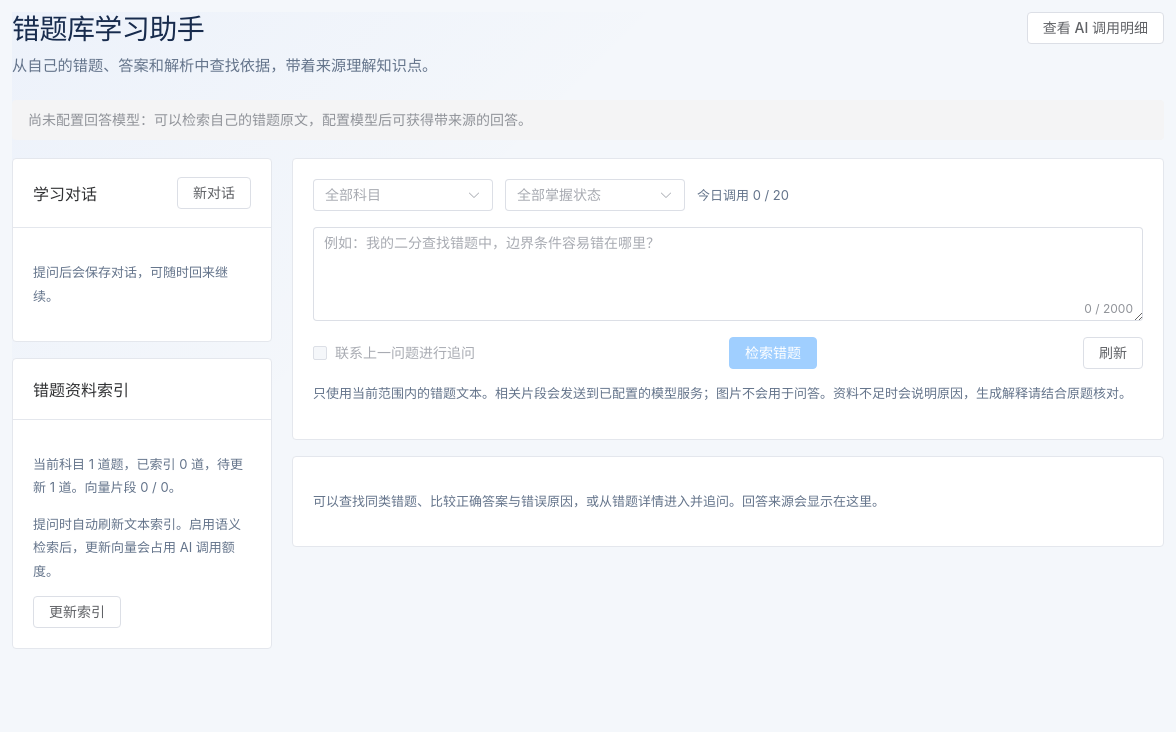
personal question RAG assistant › allows real local retrieval while clearly identifying unconfigured generation
Type "链表反转" into the text box with test id "rag-question" at (728, 274), box [313,227,1143,321]
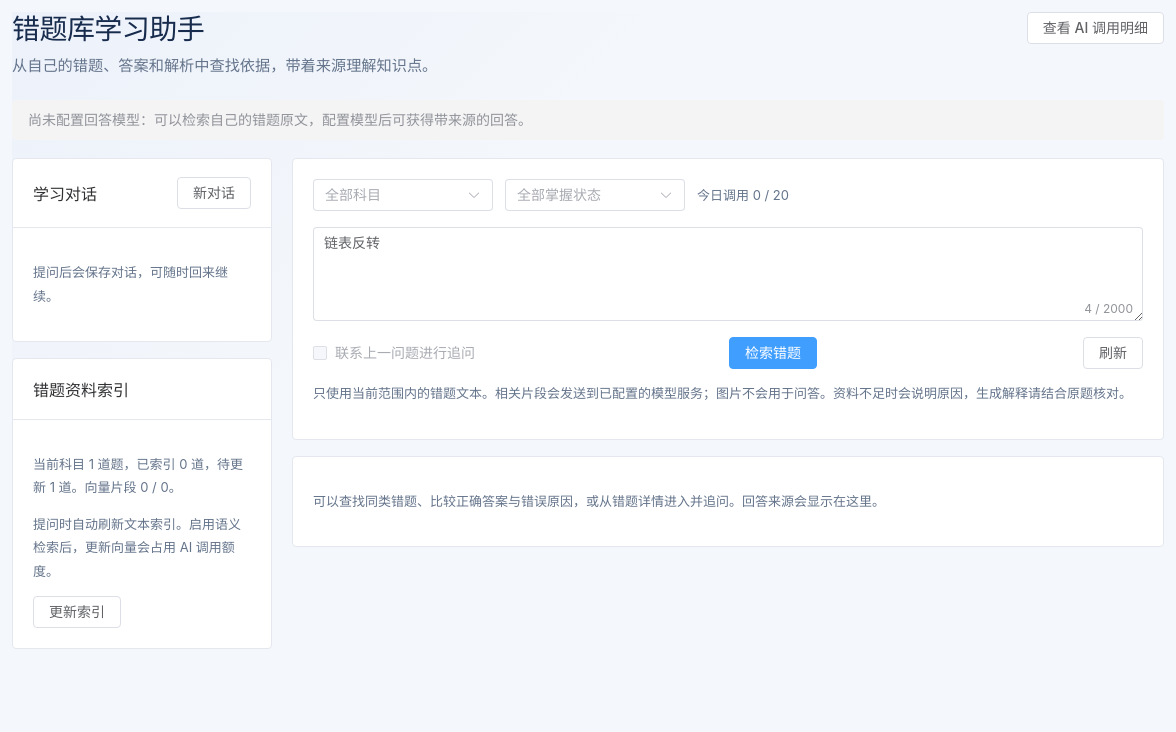
Check: the button with test id "rag-ask" reads "检索错题", box [729,337,817,369]
Check: the button with test id "rag-ask" is enabled, box [729,337,817,369]
